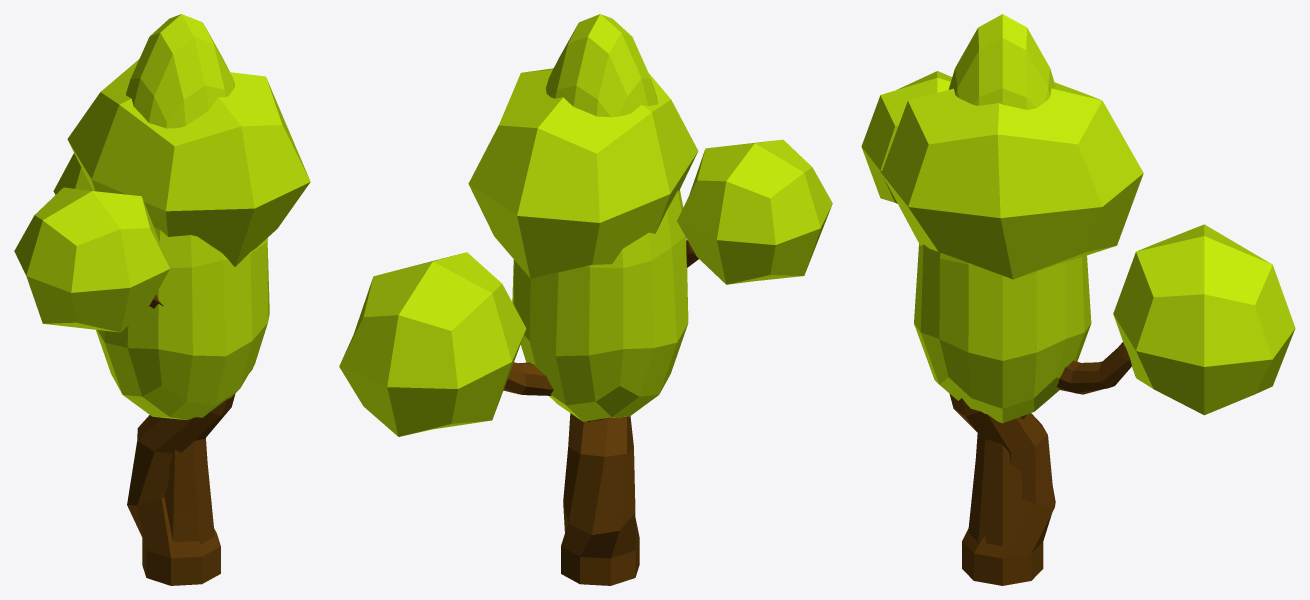
File: Trees.fbx
The picture shows the model from 3 angles, left to right: view 1: azimuth 30°, elevation 25°; view 2: azimuth 150°, elevation 25°; view 3: azimuth 270°, elevation 25°; orthographic projection.
Visible parts, largest first — view 1: Tree1, Tree2; view 2: Tree1, Tree2; view 3: Tree1, Tree2.
Boxes of the visible parts, <box> form: Tree1: <box>14,59,310,585</box>; Tree2: <box>96,14,269,543</box>; Tree1: <box>339,68,832,585</box>; Tree2: <box>512,14,688,421</box>; Tree1: <box>861,71,1295,585</box>; Tree2: <box>914,14,1091,545</box>.
Size of the model in its own units: 4.99 by 7.93 by 5.63.
